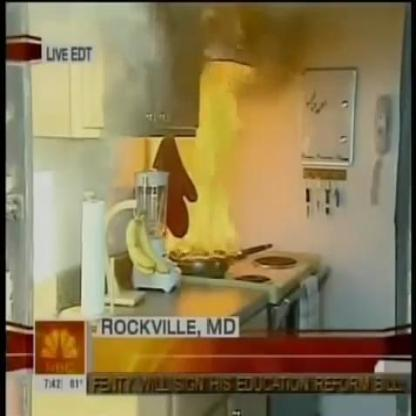fire: (154, 57, 247, 261)
